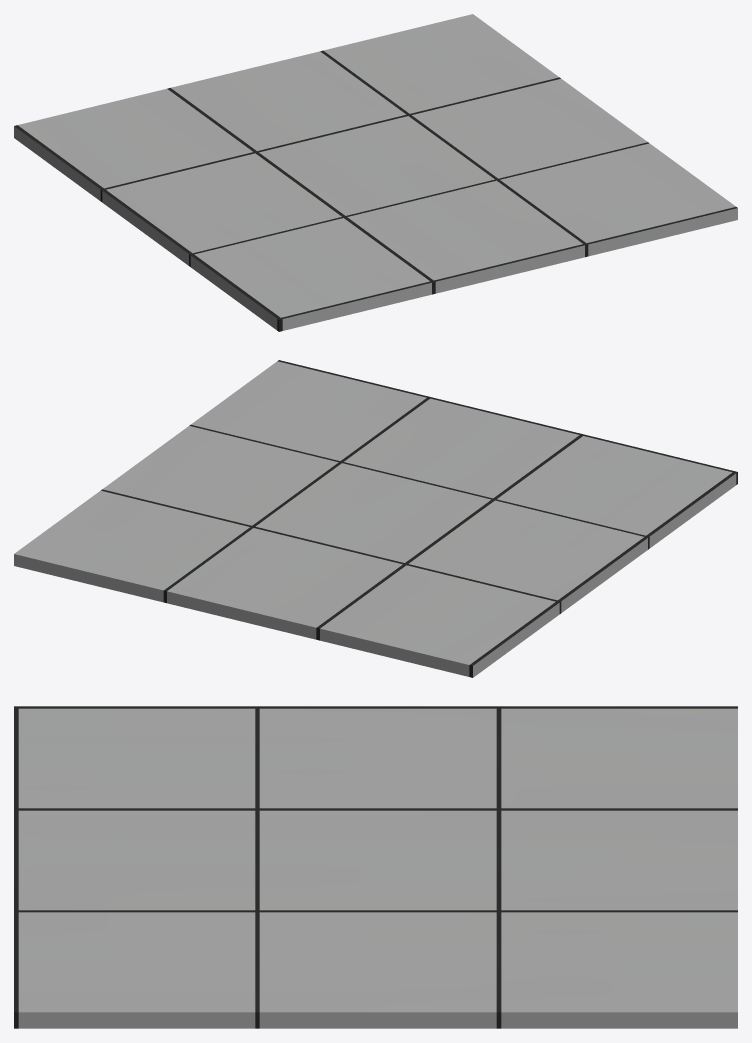
File: Suelo.fbx
3 renders of one model, top to bottom at view 1: azimuth 30°, elevation 25°; view 2: azimuth 150°, elevation 25°; view 3: azimuth 270°, elevation 25°, orthographic. The views are drawn at different scales.
Visible parts, largest first — view 1: Juntas; view 2: Juntas; view 3: Juntas.
Boxes of the visible parts, left/top/right/bottom form: Juntas: left=14, top=14, right=737, bottom=331; Juntas: left=14, top=360, right=737, bottom=677; Juntas: left=14, top=706, right=737, bottom=1028.
Bounding box in the file's own units: 200 × 5 × 200.
